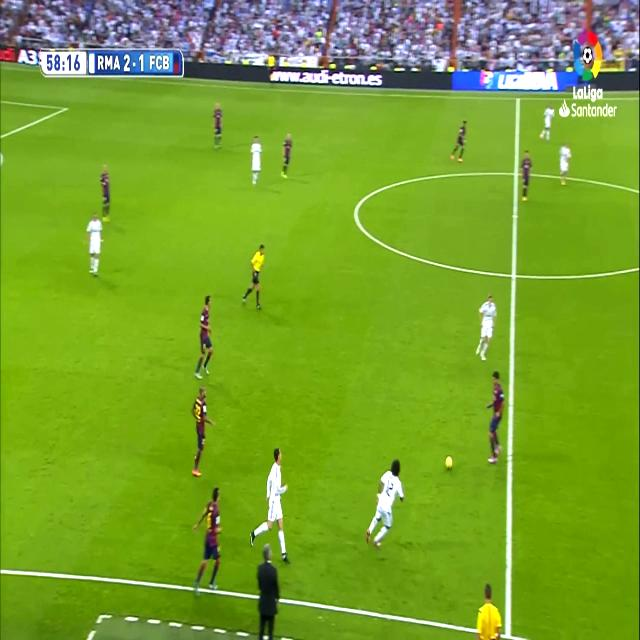halfcircle_bottom: (507, 256, 521, 292)
halfcircle_top: (510, 158, 522, 187)
midline_bottom_intersection: (498, 610, 518, 640)
midline_top_intersection: (512, 90, 524, 109)
